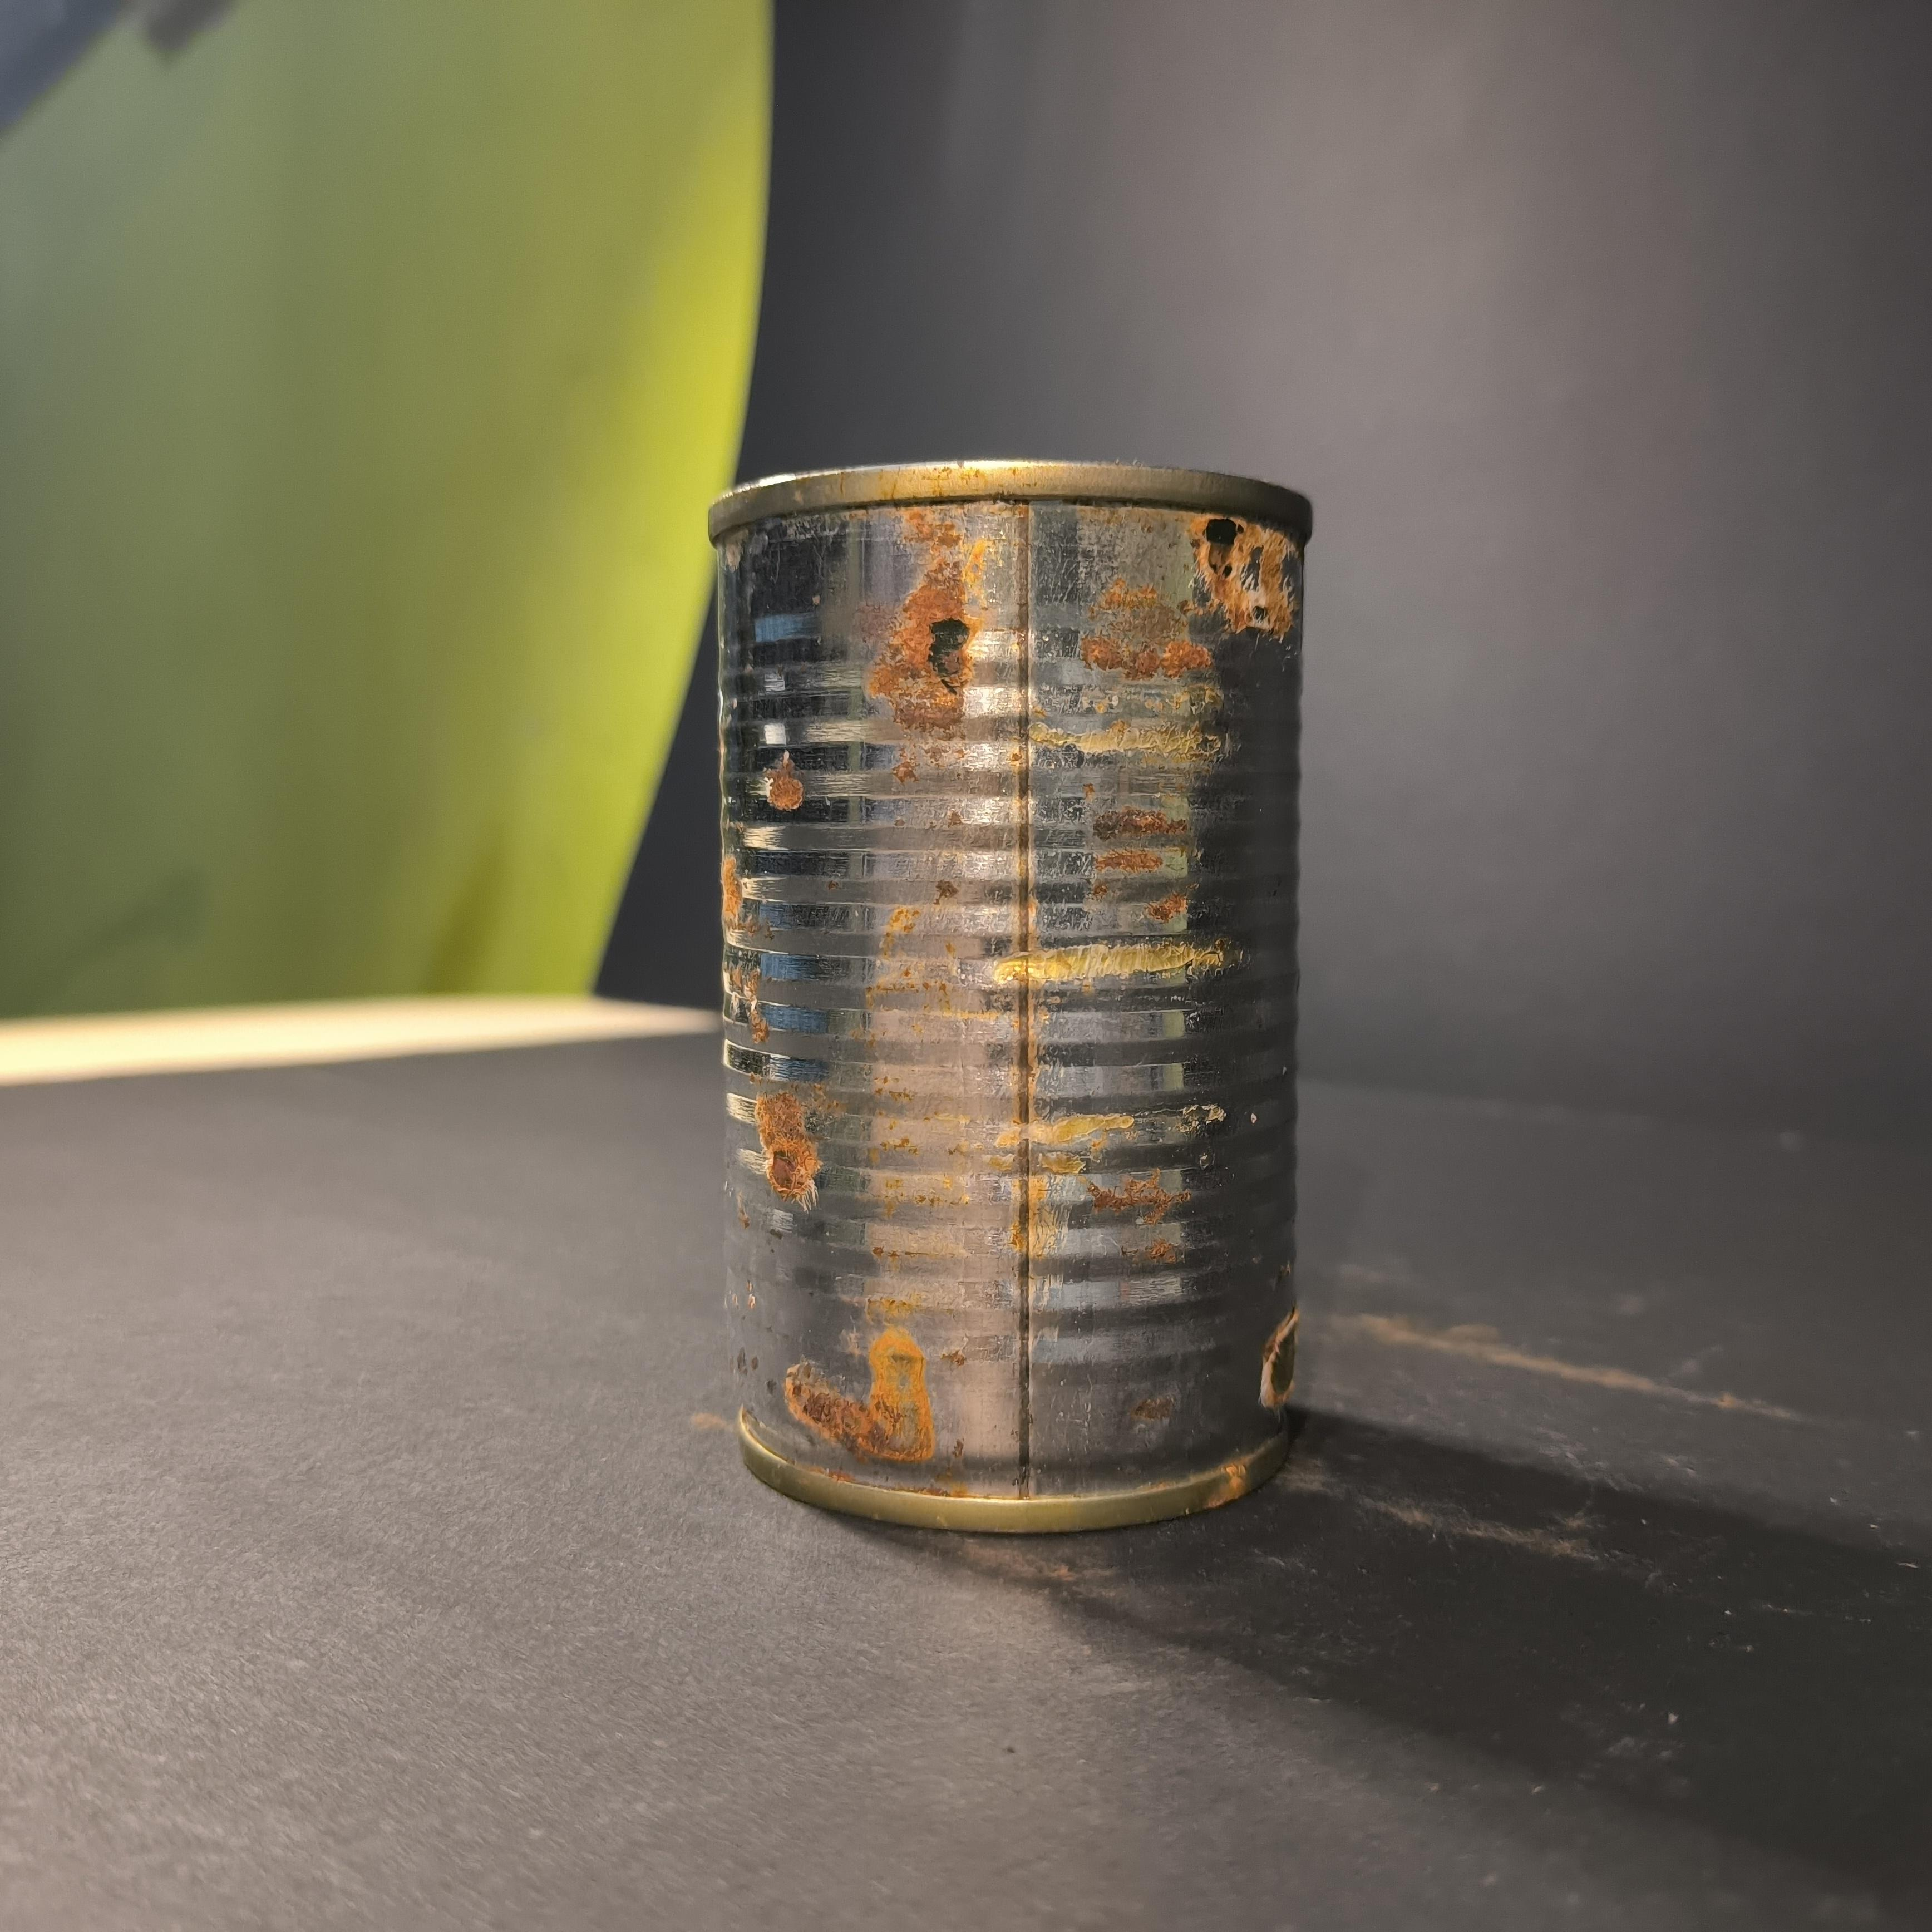Rusted: (681, 432, 1352, 1536)
